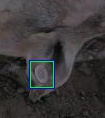text: (30, 61, 53, 87)
